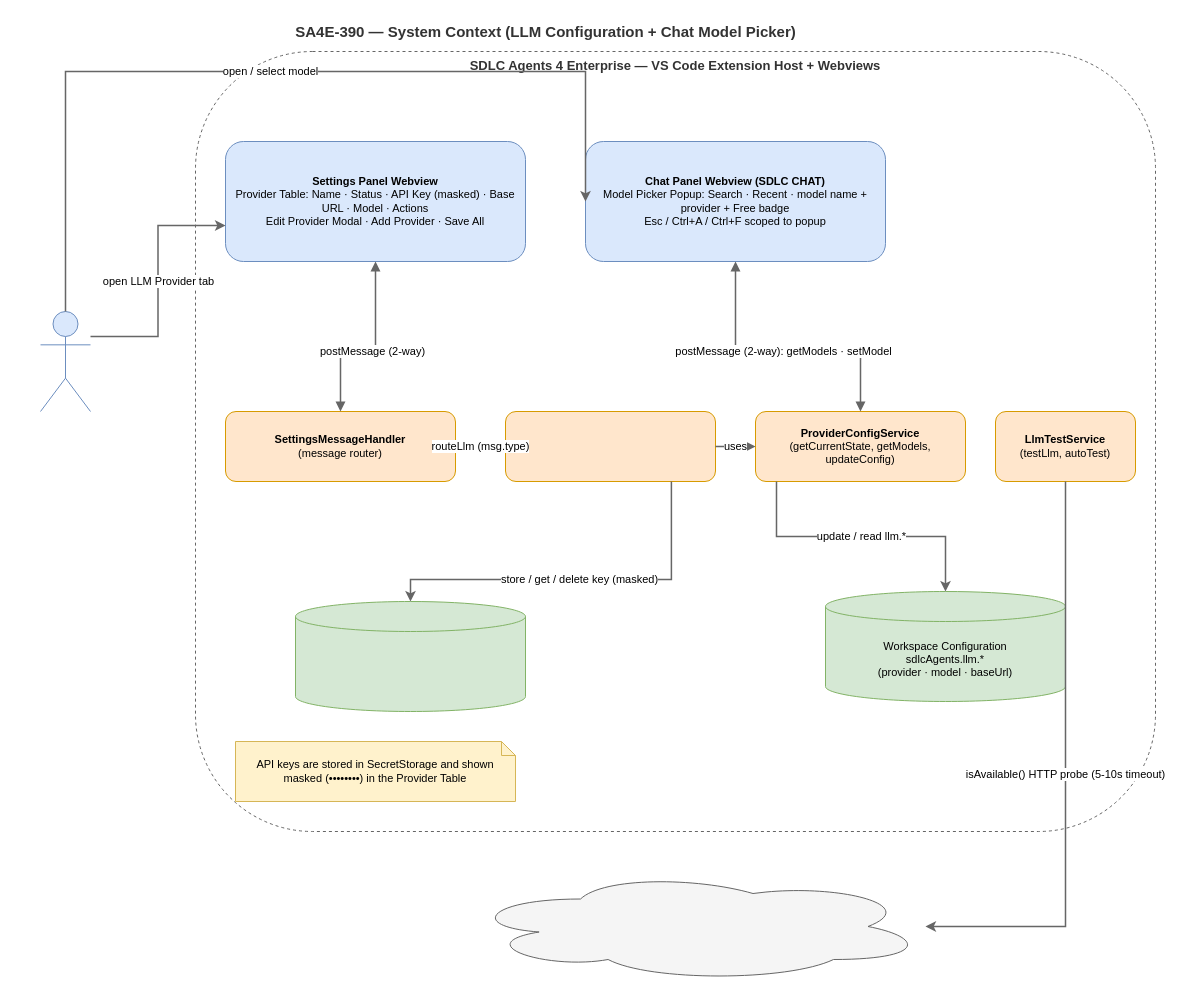
Some shapes in this 1183 by 999 pixel diagram are drawn without their labels. The centre of each missing label's shape, as x and y in pixels:
Developer (User): (65,361)
LLM Providers: anthropic · openai · lmstudio · openrouter · ollama: (695,926)
LlmSettingsHandler (LLM settings messages): (610,446)
VS Code SecretStorage SECRET_KEYS — API keys (never displayed plainly): (410,656)
